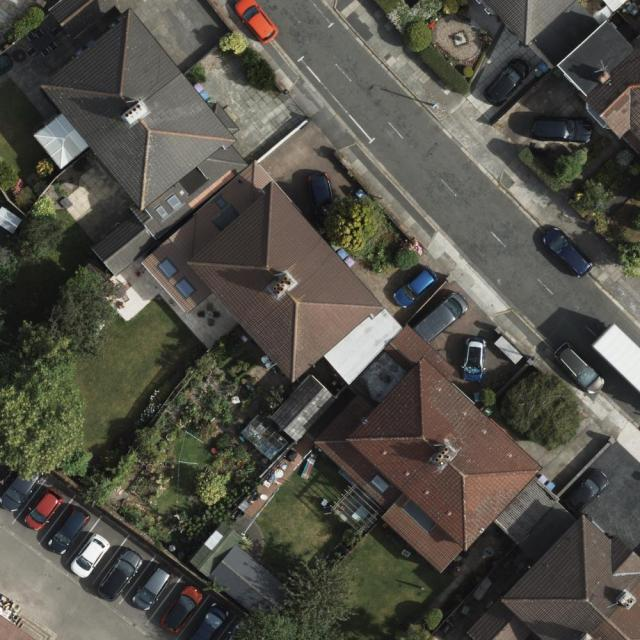roof: (33, 6, 640, 640), (558, 20, 640, 141), (271, 374, 337, 442), (484, 0, 579, 46), (48, 0, 122, 41)
skylight: (175, 276, 199, 301), (158, 256, 178, 282), (367, 474, 390, 495), (164, 191, 185, 212), (153, 203, 169, 220), (216, 196, 229, 213)
